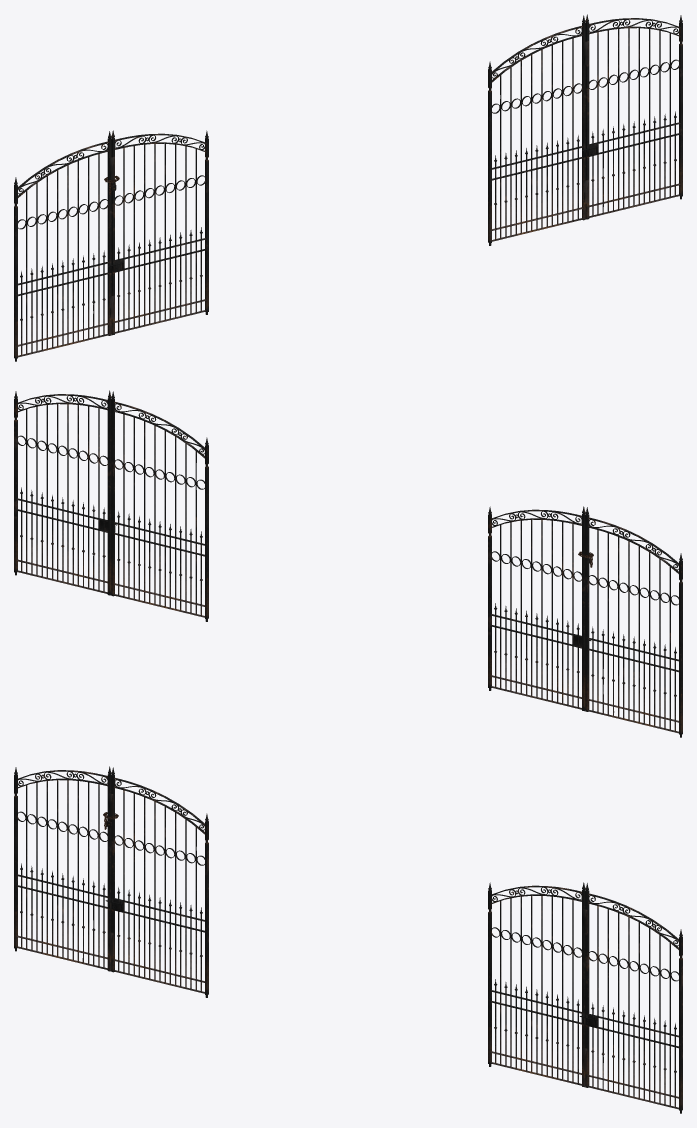
Rendered from works-gates.glb.
The picture shows the model from 3 angles, top to bottom: view 1: azimuth 30°, elevation 25°; view 2: azimuth 150°, elevation 25°; view 3: azimuth 330°, elevation 25°; orthographic projection.
Parts seen in each view (by area): view 1: large_iron_gate_right_door.001, large_iron_gate_right_door, large_iron_gate_left_door, large_iron_gate_left_door.001; view 2: large_iron_gate_left_door, large_iron_gate_right_door.001, large_iron_gate_left_door.001, large_iron_gate_right_door; view 3: large_iron_gate_right_door.001, large_iron_gate_right_door, large_iron_gate_left_door, large_iron_gate_left_door.001.
Boxes of the visible parts, x1,y1,x2,y2 form: large_iron_gate_right_door.001: (583,14,682,219); large_iron_gate_right_door: (109,130,208,335); large_iron_gate_left_door: (14,131,112,361); large_iron_gate_left_door.001: (488,15,586,245); large_iron_gate_left_door: (585,507,682,737); large_iron_gate_right_door.001: (14,390,111,595); large_iron_gate_left_door.001: (111,391,208,621); large_iron_gate_right_door: (488,506,585,711); large_iron_gate_right_door.001: (582,883,682,1113); large_iron_gate_right_door: (108,767,208,997); large_iron_gate_left_door: (14,766,111,971); large_iron_gate_left_door.001: (488,882,585,1087).
Size of the model in its own units: 9.87 by 2.93 by 0.137.
Materials: 5 (4 with a texture image).
